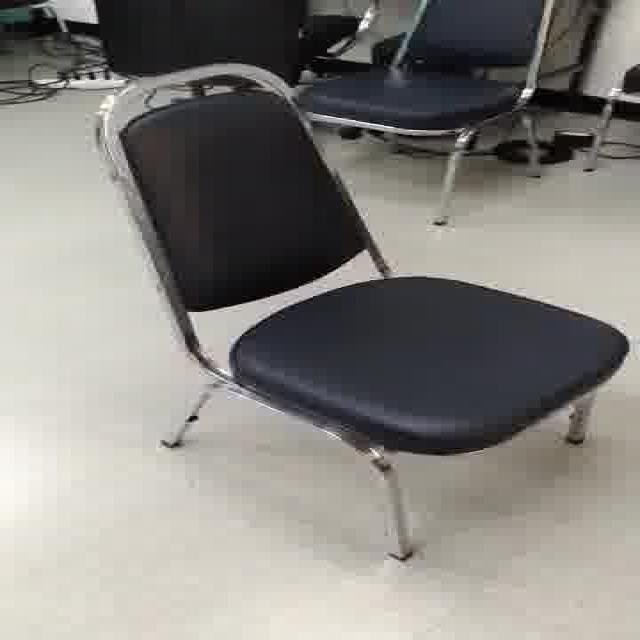chair: (56, 63, 638, 579)
